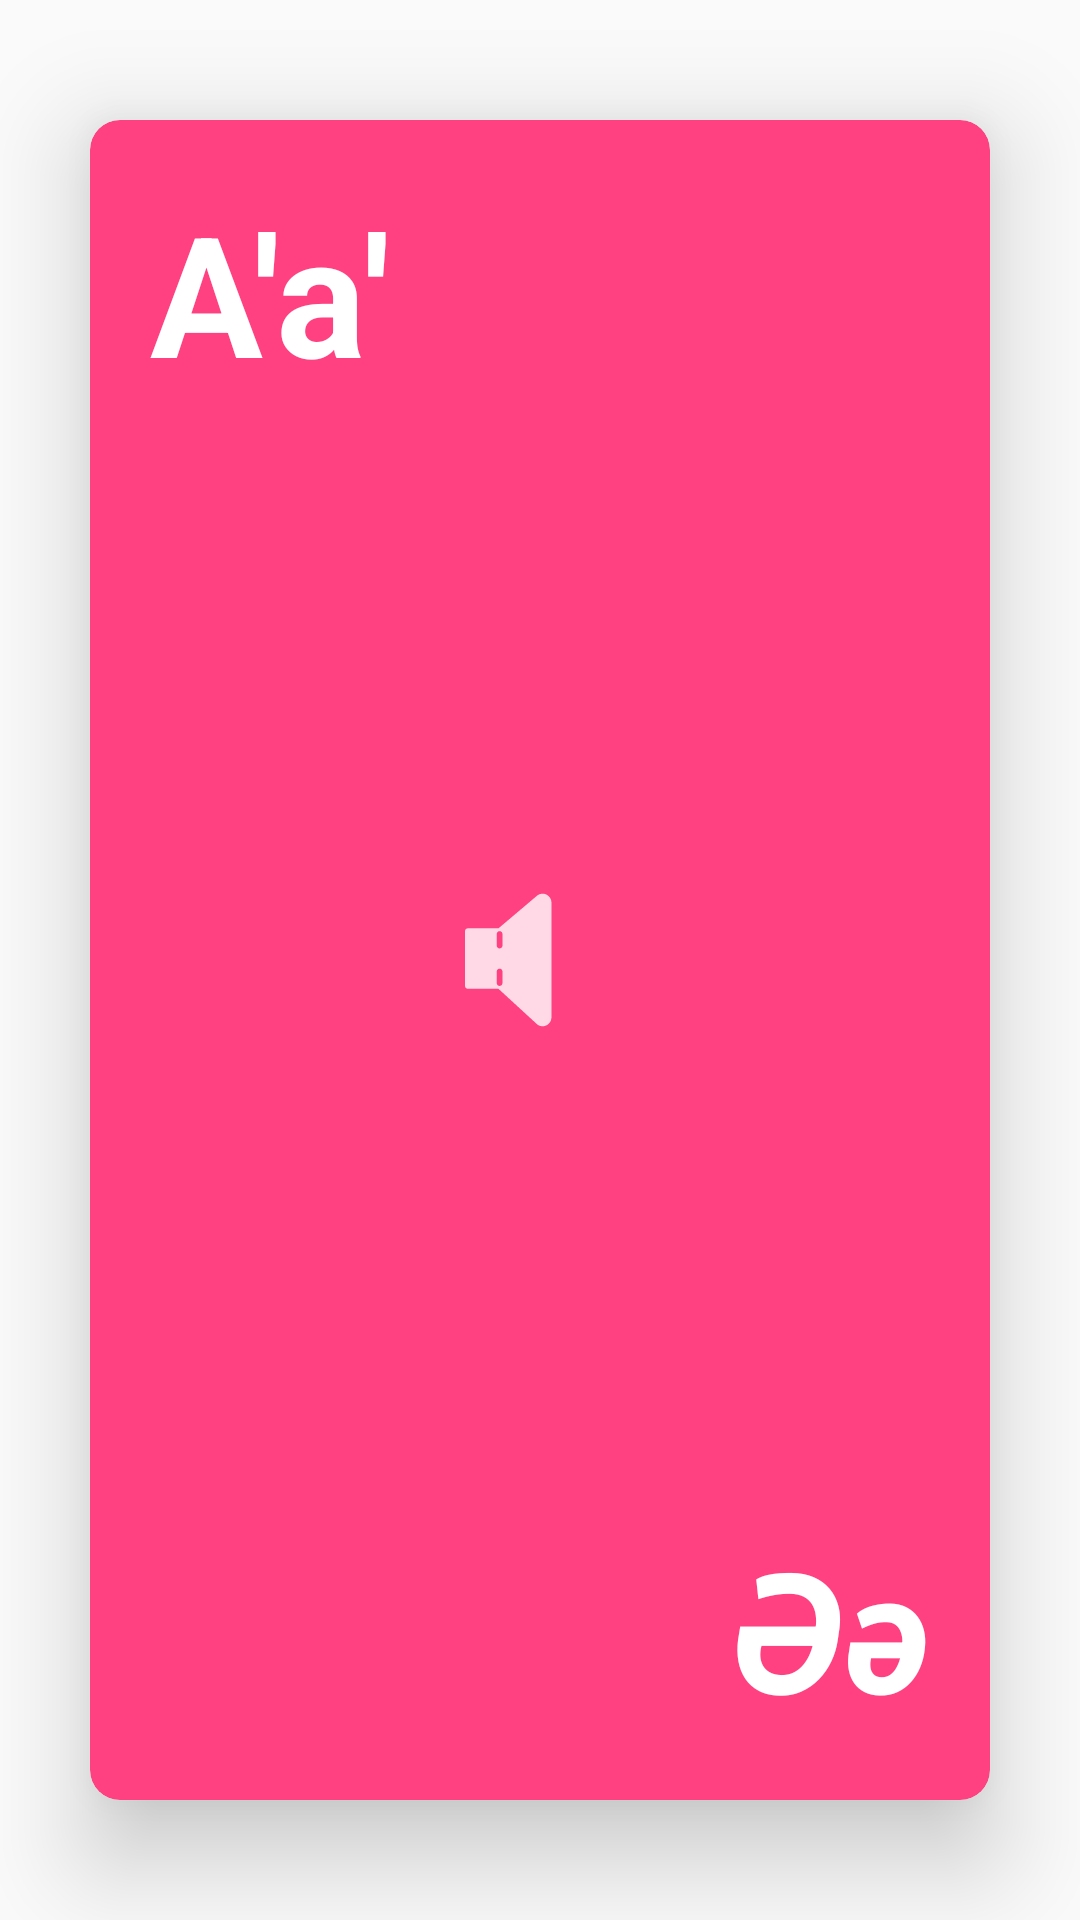

Named icons in this screenshot (1080px×1920px) and their centers, (x,y):
speaker without: (508,960)
